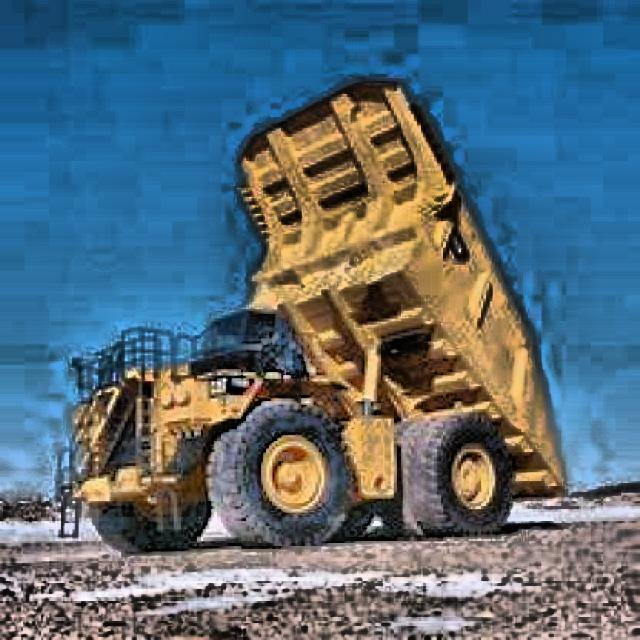dump_truck: (55, 72, 577, 542)
